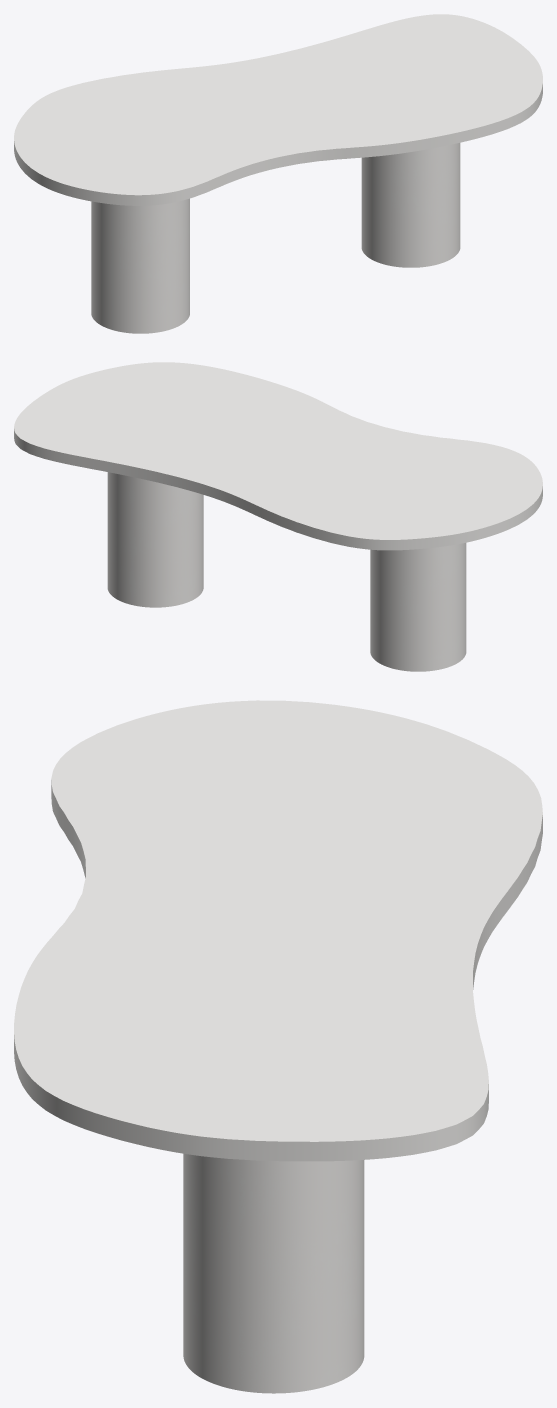
Rendered from purewhite_wave_standard_stream.glb.
3 renders of one model, top to bottom at view 1: azimuth 30°, elevation 25°; view 2: azimuth 150°, elevation 25°; view 3: azimuth 270°, elevation 25°, orthographic. The views are drawn at different scales.
Parts seen in each view (by area): view 1: standard_wave, stream; view 2: standard_wave, stream; view 3: standard_wave, stream.
Boxes of the visible parts, box(x1,y1,x2,y2) form: standard_wave: box(14, 14, 542, 205); stream: box(91, 143, 460, 333); standard_wave: box(14, 362, 542, 550); stream: box(107, 472, 466, 671); standard_wave: box(14, 700, 542, 1161); stream: box(183, 1153, 364, 1393).
Size of the model in its own units: 7.5 by 2.5 by 3.8.
1 material, 1 textured.
